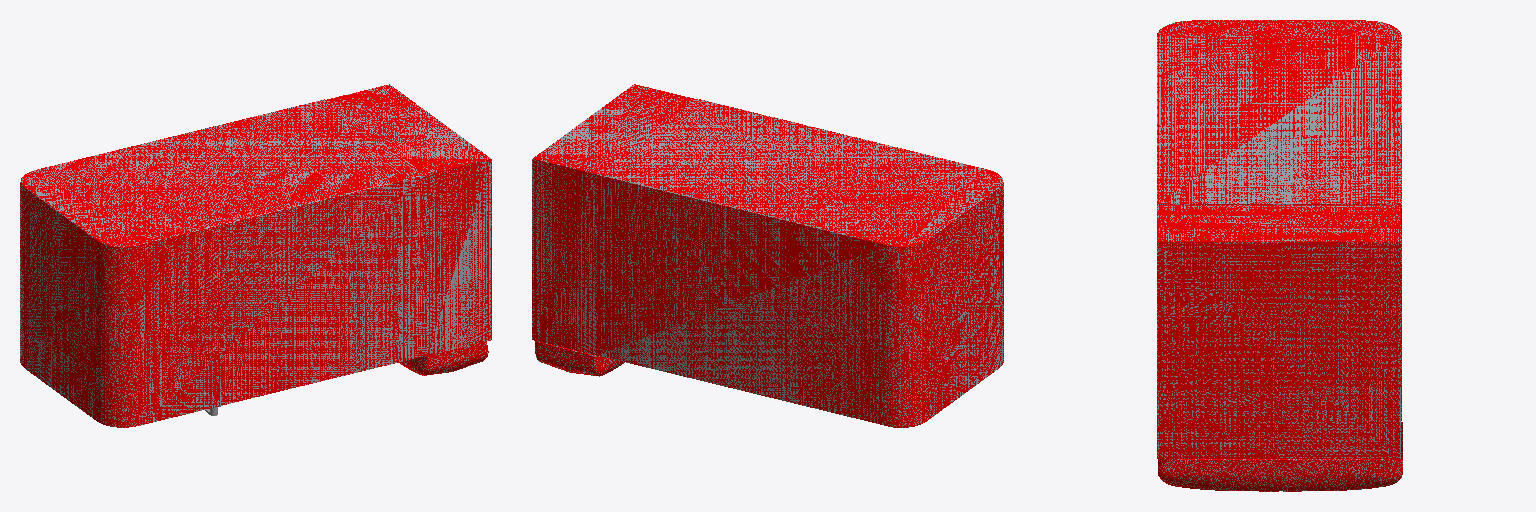
robot.urdf — fridge:
<?xml version="1.0" ?>
<robot name="fridge">
	<link name="base"/>
	<link name="link_0">
		<visual name="out-frame">
			<origin xyz="0 0 0"/>
			<geometry>
				<mesh filename="texture_dae/frame.dae" scale="0.7 0.7 0.7"/>
			</geometry>
		</visual>
		<collision>
			<origin xyz="0 0 0"/>
			<geometry>
				<mesh filename="texture_dae/frame.dae" scale="0.7 0.7 0.7"/>
			</geometry>
		</collision>
	</link>
	<joint name="joint_0" type="fixed">
		<origin rpy="1.570796326794897 0 -1.570796326794897" xyz="0 0 0"/>
		<child link="link_0"/>
		<parent link="base"/>
	</joint>
	<link name="link_1">
		<visual name="surf-board">
			<origin xyz="0.43067193359250056 -0.41782663873822895 0"/>
			<geometry>
				<mesh filename="texture_dae/board.dae" scale="0.7 0.7 0.7"/>
			</geometry>
		</visual>
		<collision>
			<origin xyz="0.43067193359250056 -0.41782663873822895 0"/>
			<geometry>
				<mesh filename="texture_dae/board.dae" scale="0.7 0.7 0.7"/>
			</geometry>
		</collision>
	</link>
	<joint name="joint_1" type="revolute">
		<origin xyz="-0.43067193359250056 0.41782663873822895 0"/>
		<axis xyz="0 -1 0"/>
		<child link="link_1"/>
		<parent link="link_0"/>
		<limit lower="0" upper="1.5079644737231006"/>
	</joint>
	<link name="link_2">
		<visual name="handle">
			<origin xyz="0 0 0"/>
			<geometry>
				<mesh filename="texture_dae/9960005.dae" scale="1.4 1.4 1.4"/>
			</geometry>
		</visual>
		<collision>
			<origin xyz="0 0 0"/>
			<geometry>
				<mesh filename="texture_dae/9960005.dae" scale="1.4 1.4 1.4"/>
			</geometry>
		</collision>
	</link>
	<joint name="joint_2" type="revolute">
		<origin xyz="0.43067193359250056 -0.41782663873822895 0.047019655831599824"/>
		<child link="link_2"/>
		<parent link="link_1"/>
		<axis xyz="0 0 1"/>
		<limit lower="0" upper="1.5079644737231006"/>
	</joint>
</robot>

--- Render facts (derived) ---
3 views of the same robot in one strip: view 1: azimuth 30°, elevation 25°; view 2: azimuth 150°, elevation 25°; view 3: azimuth 270°, elevation 25° (orthographic).
Robot: fridge — 4 links, 3 joints (2 revolute, 1 fixed); root link base; default pose: every joint at zero.
Links seen in each view (by area): view 1: link_0; view 2: link_0; view 3: link_0.
Link boxes in pixels (x1,y1,x2,y2): link_0: (20, 84, 491, 427); link_0: (532, 84, 1003, 427); link_0: (1157, 20, 1402, 491).
Size in the robot's own frame: 1.16 by 0.5425 by 0.6245 metres.
Meshes: 3 distinct files referenced, 2 mesh visuals loaded (2 Collada DAE); not drawn: 1 (file found but could not be loaded).